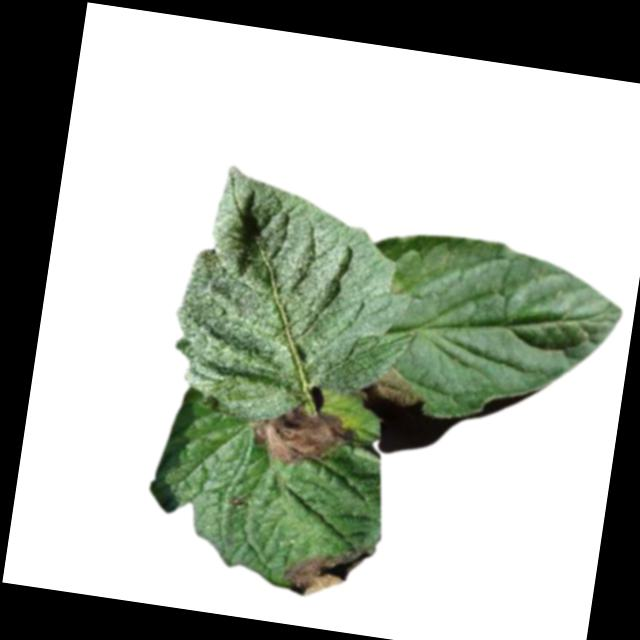Late_blight: (244, 394, 362, 475), (282, 535, 375, 605), (354, 361, 429, 410), (225, 492, 245, 507)
